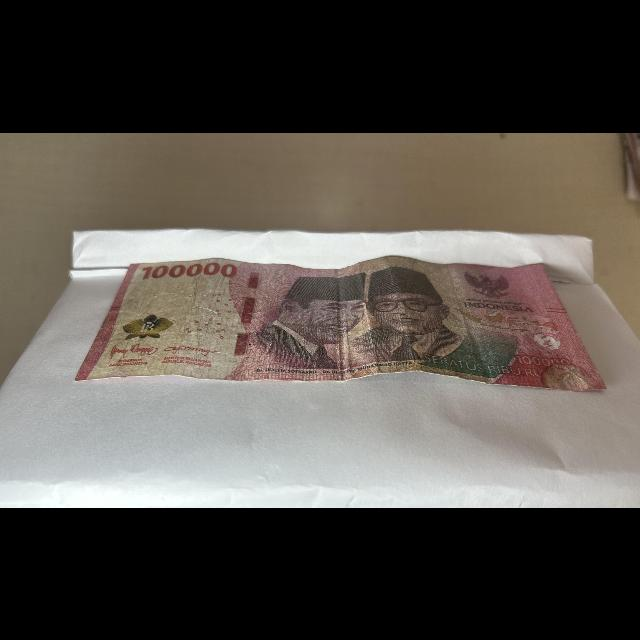Palsu-100k: (70, 249, 612, 394)
Tinta-Palsu-100k: (118, 313, 176, 341)
